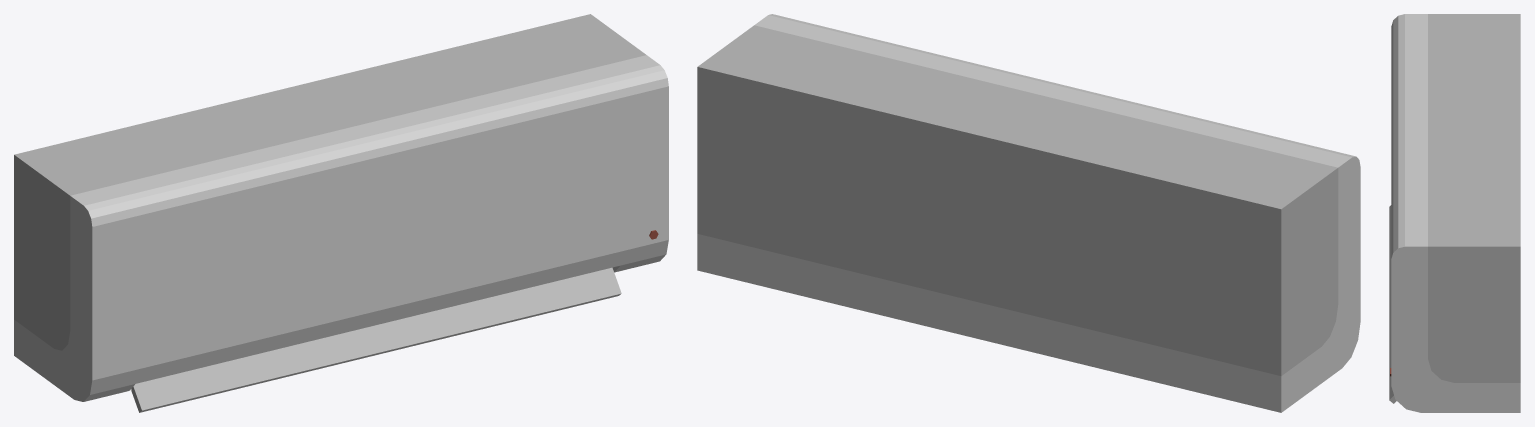
Rendered from AirConditioner_01.fbx.
3 renders of one model, left to right at view 1: azimuth 30°, elevation 25°; view 2: azimuth 150°, elevation 25°; view 3: azimuth 270°, elevation 25°, orthographic. The views are drawn at different scales.
Parts seen in each view (by area): view 1: AirConditioner_01; view 2: AirConditioner_01; view 3: AirConditioner_01.
Part boxes in pixels (box(x1,y1,x2,y2)): AirConditioner_01: box(14, 14, 668, 412); AirConditioner_01: box(697, 14, 1360, 412); AirConditioner_01: box(1389, 14, 1520, 412).
Bounding box in the file's own units: 90 × 31.91 × 21.49.
